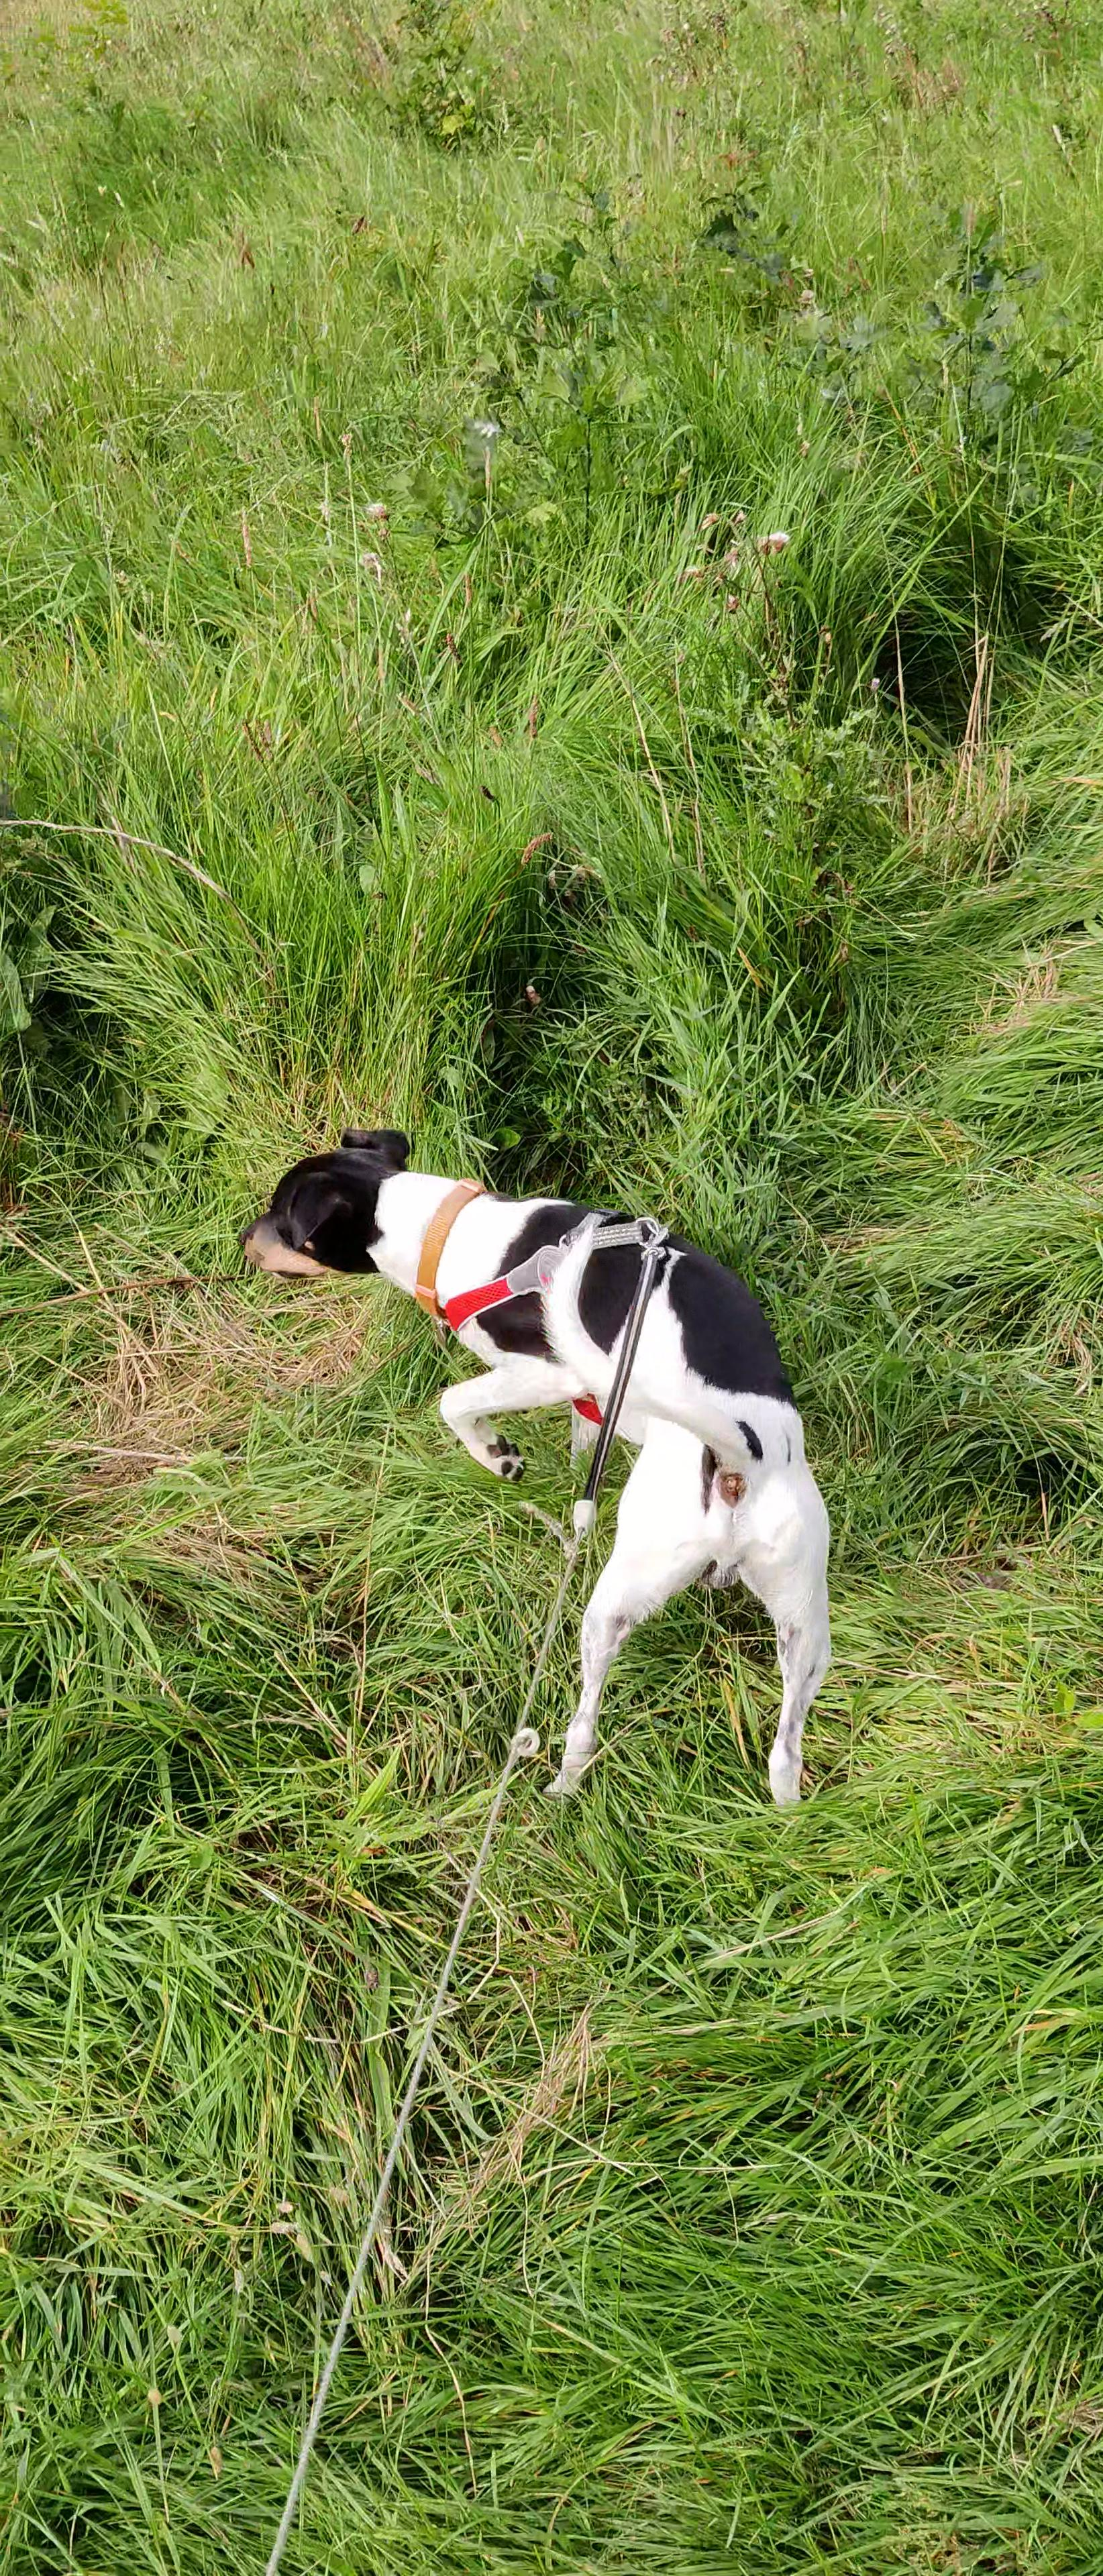Dog: (228, 1124, 837, 1825)
